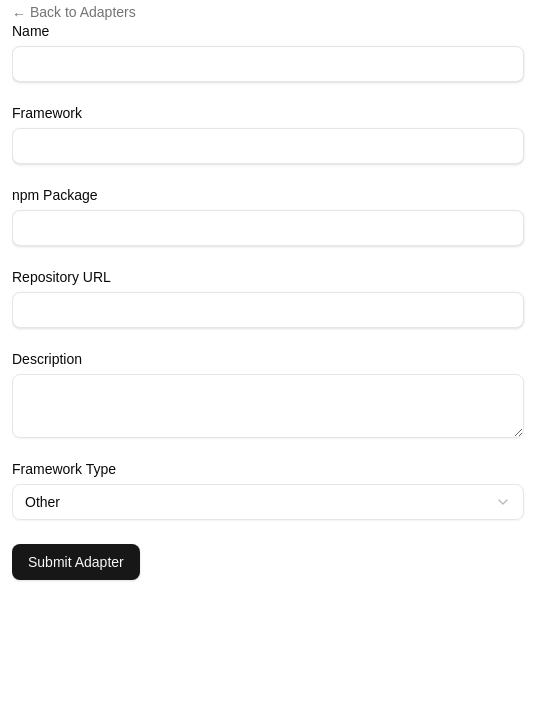
it: AdapterSubmitForm › shows validation errors when submitting empty form
Click the button "Submit Adapter" at (76, 562), box [12,544,140,580]
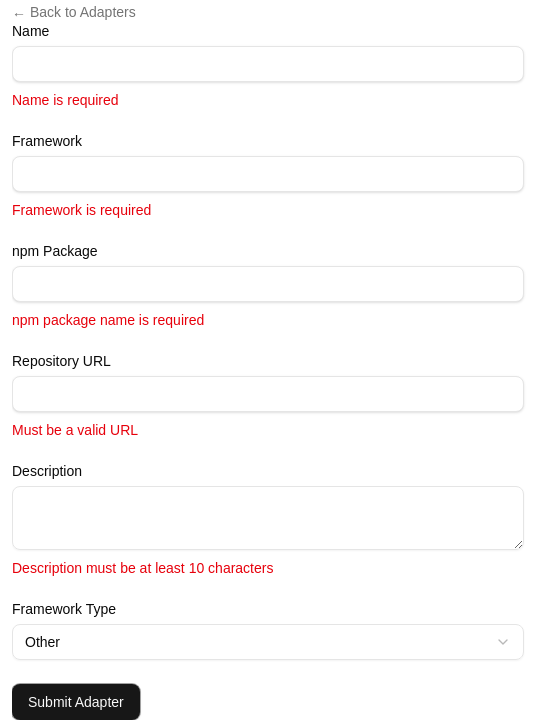
Expected: the text "Name is required" is shown, [12,92,119,108]
